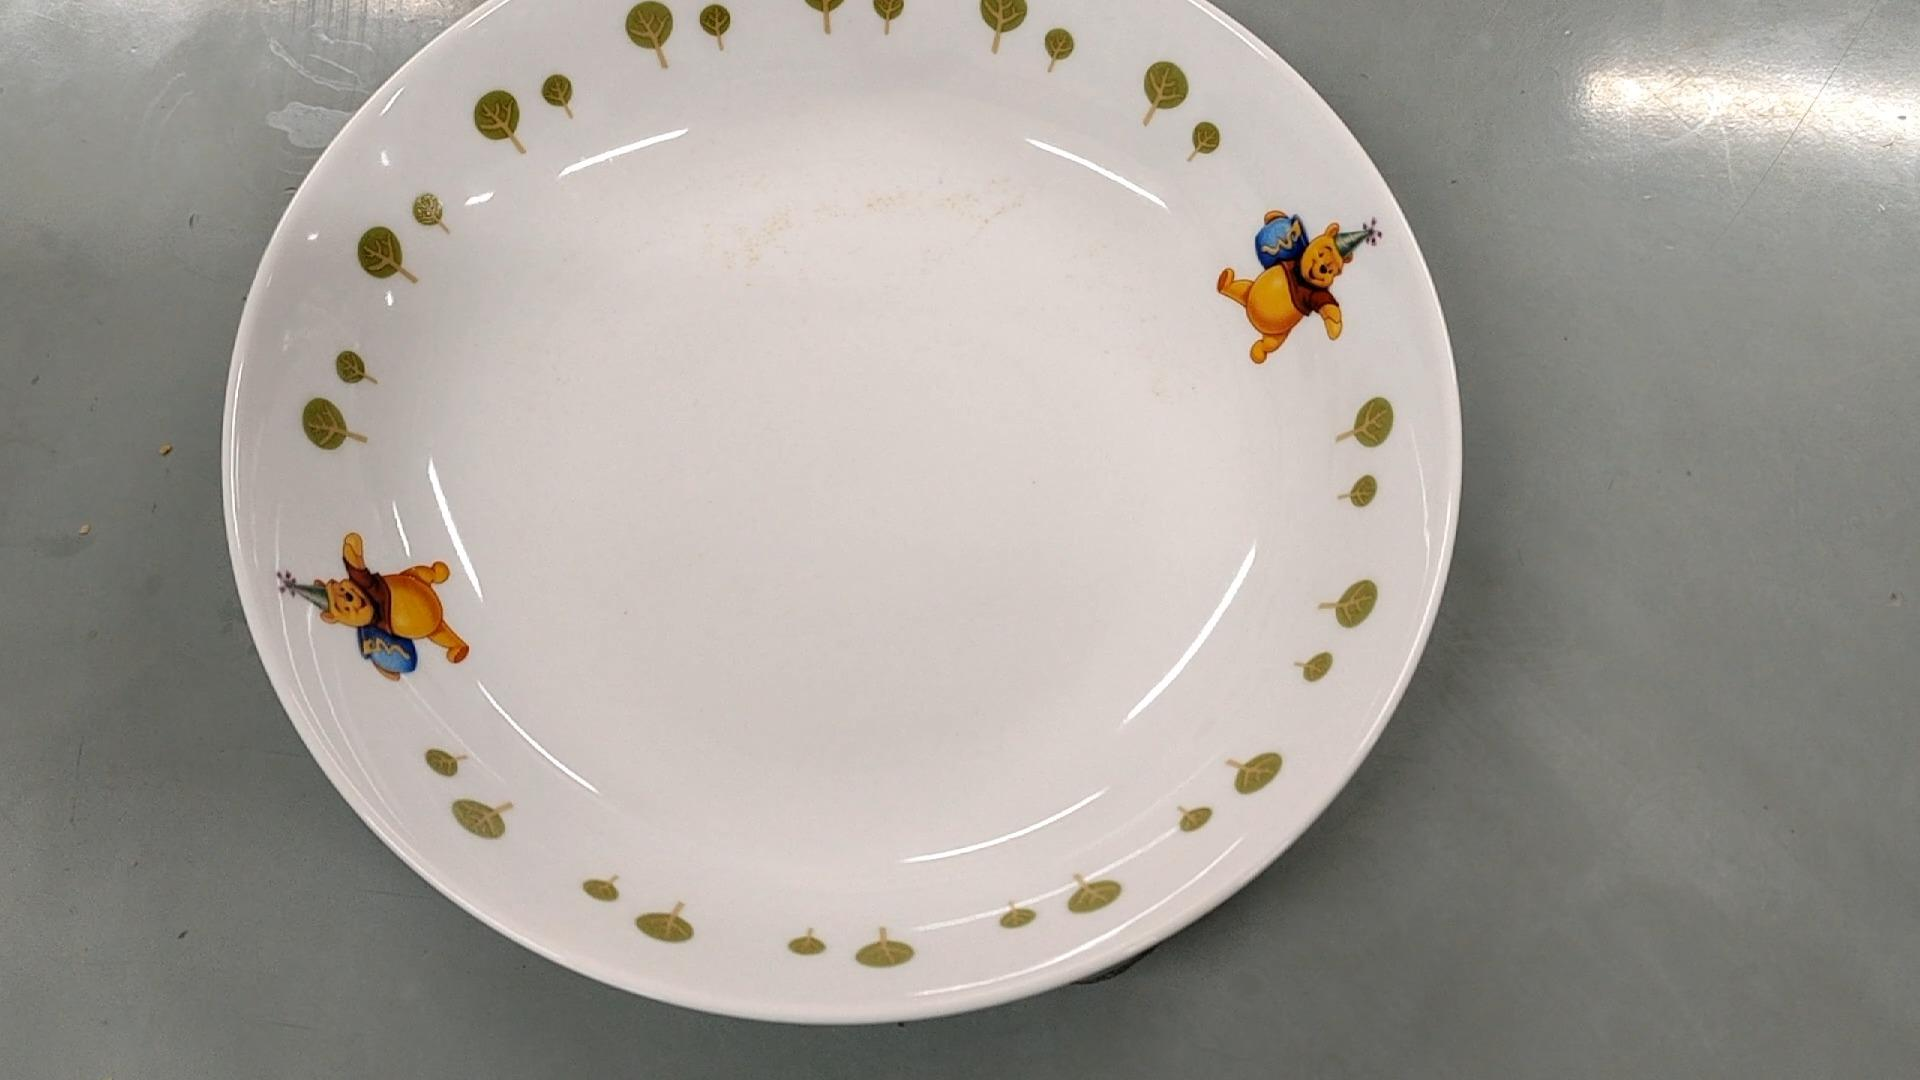plate: (220, 0, 1457, 1027)
